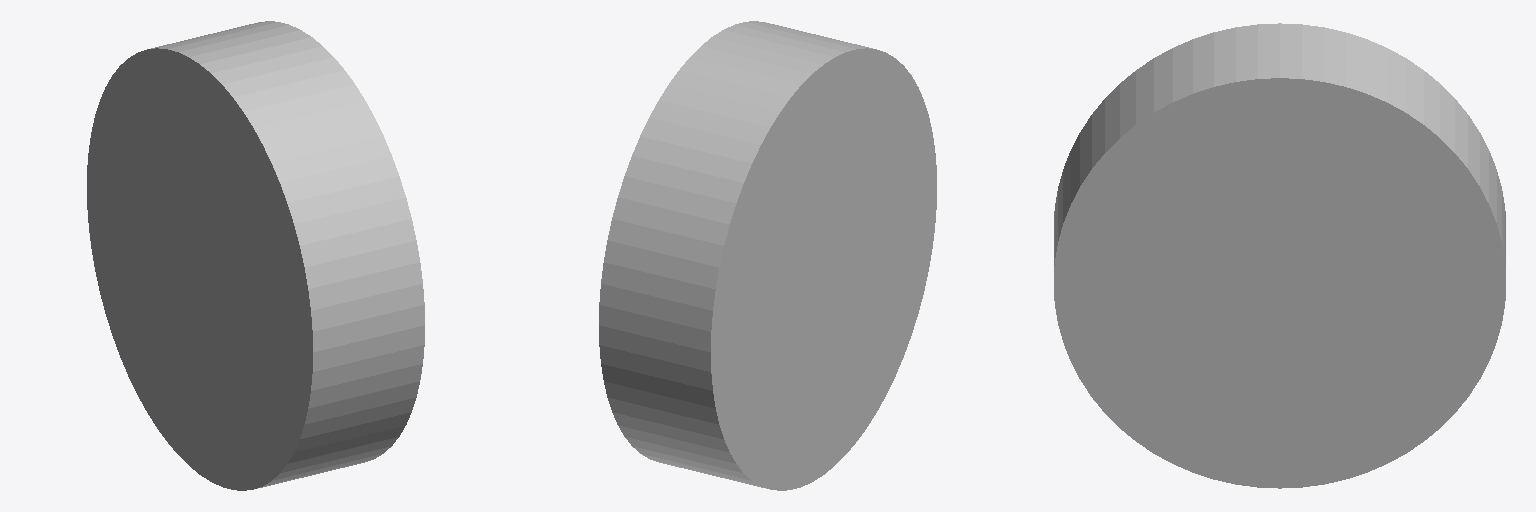
The model's file is wheel.obj.
3 views of the same model, side by side, from view 1: azimuth 30°, elevation 25°; view 2: azimuth 150°, elevation 25°; view 3: azimuth 270°, elevation 25° (orthographic).
Visible parts, largest first — view 1: Cylinder; view 2: Cylinder; view 3: Cylinder.
Boxes of the visible parts, x1,y1,x2,y2 form: Cylinder: [87, 21, 424, 490]; Cylinder: [599, 21, 936, 490]; Cylinder: [1054, 23, 1505, 488].
Bounding box in the file's own units: 0.4 × 1.4 × 1.4.